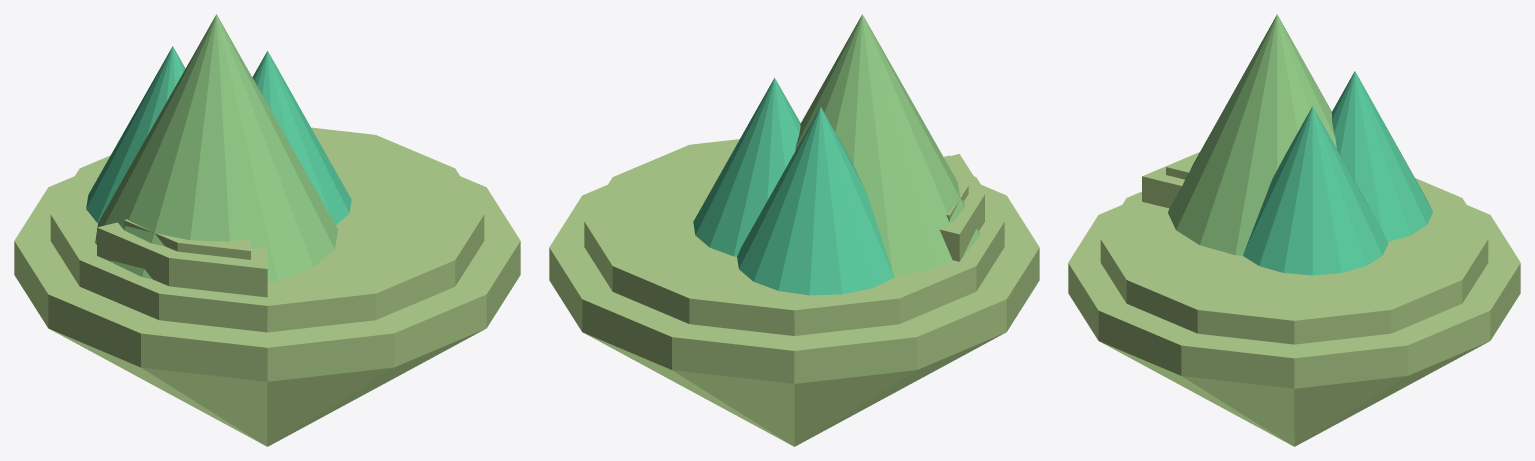
The model's file is green.fbx.
The picture shows the model from 3 angles, left to right: view 1: azimuth 30°, elevation 25°; view 2: azimuth 150°, elevation 25°; view 3: azimuth 270°, elevation 25°; orthographic projection. The views are drawn at different scales.
Visible parts, largest first — view 1: Cone.003, Cone, Cone.001, Cone.002; view 2: Cone.003, Cone, Cone.002, Cone.001; view 3: Cone.003, Cone, Cone.001, Cone.002.
Part boxes in pixels (x1,y1,x2,y2): Cone.003: (14,127,520,446); Cone: (95,14,337,282); Cone.001: (252,51,351,224); Cone.002: (86,46,185,222); Cone.003: (549,139,1039,446); Cone: (795,14,979,276); Cone.002: (737,107,894,295); Cone.001: (693,77,800,256); Cone.003: (1068,152,1520,446); Cone: (1168,14,1336,255); Cone.001: (1243,106,1388,275); Cone.002: (1331,71,1432,241).
Size of the model in its own units: 951 by 943 by 951.
